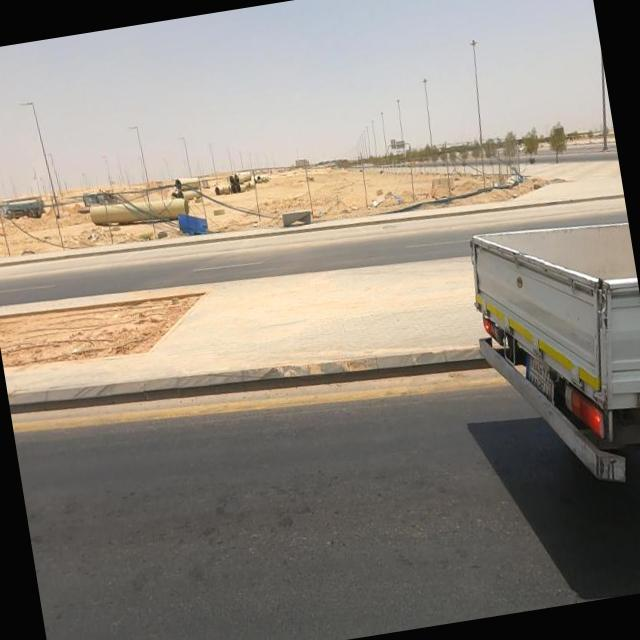debris: (151, 186, 236, 262), (482, 144, 542, 215), (368, 171, 422, 244), (360, 168, 400, 219), (298, 186, 338, 237)
